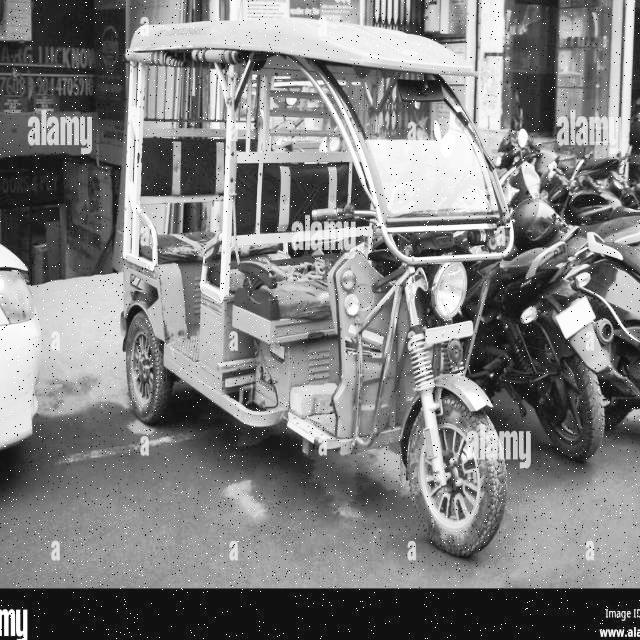Toto: (118, 9, 525, 557)
